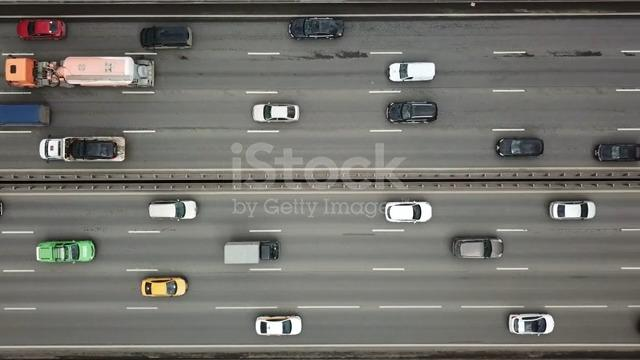Cars: (39, 136, 126, 163), (36, 239, 96, 264), (140, 25, 193, 50), (288, 17, 345, 40), (386, 101, 438, 124), (17, 18, 67, 41), (253, 102, 300, 124), (255, 315, 302, 337), (387, 62, 436, 83), (141, 277, 189, 298), (594, 143, 640, 162)
